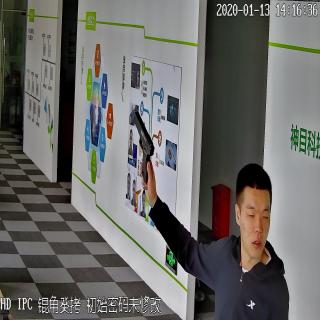gun: (130, 109, 158, 177)
